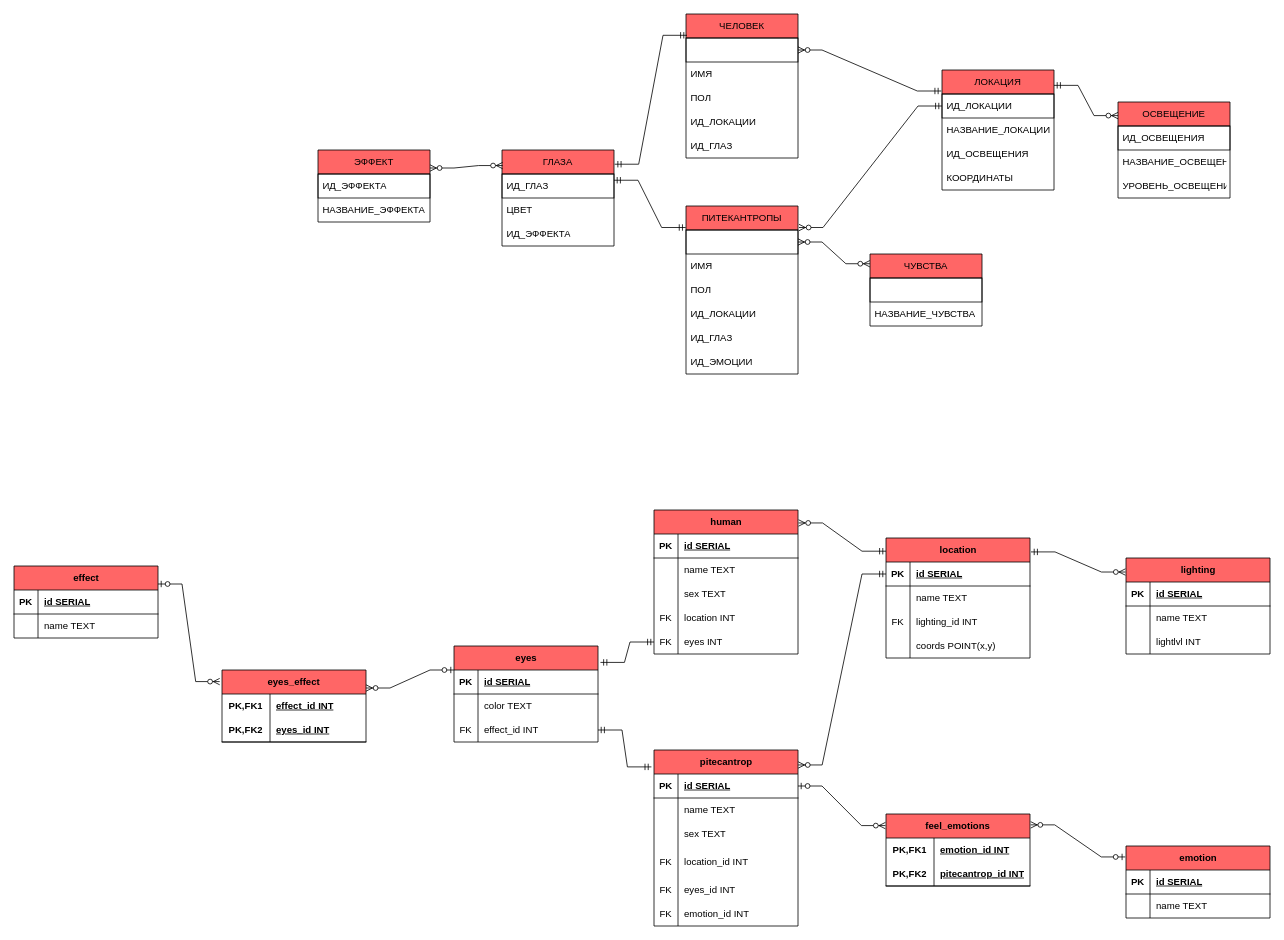
Some shapes in this 1284 by 940 pixel diagram are drawn without their labels. The centre of each missing label's shape, as x and y in pixels:
ИД_ПИТЕКАНТРОПА: point (741, 241)
ИД_ЧЕЛОВЕКА: point (741, 49)
ИД_ЧУВСТВА: point (925, 289)
